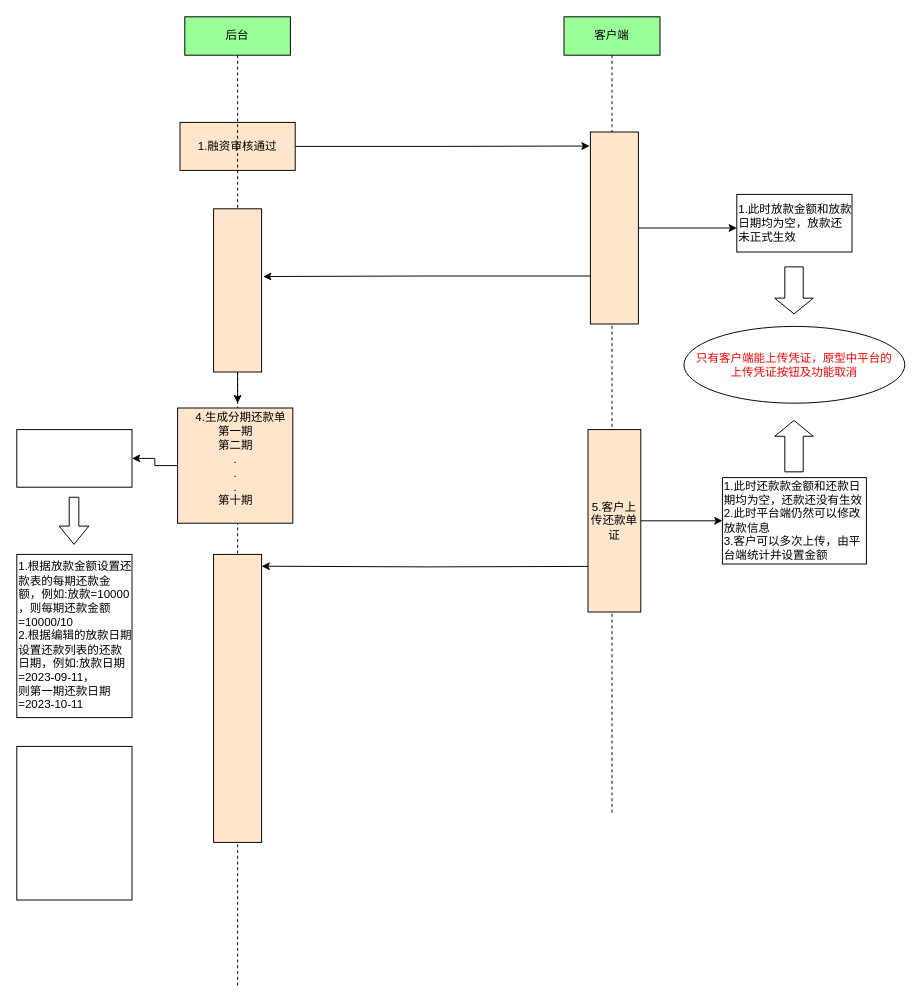
This 922x1003 diagram has some shape labels left out. The centre of each missing label's shape, as x and y in pixels:
"1.一旦编辑完金额和日期，并且保存成功，还款已经生效，放款信息则不能修改 2.还款金额可以多次编辑，但是不能超过应还金额" goes at pixel 74 822.
"2.客户端上传放款凭证" goes at pixel 613 227.
"3.后台可进行查看并编辑放款金额和放款日期" goes at pixel 237 290.
"6.后台可以查看用户上传的还款单证并且编辑还款金额和还款日期，可以多次编辑，但是还款总额不能超过应还款金额" goes at pixel 237 697.
"从产品信息表获取分期数：例 10期" goes at pixel 74 458.
